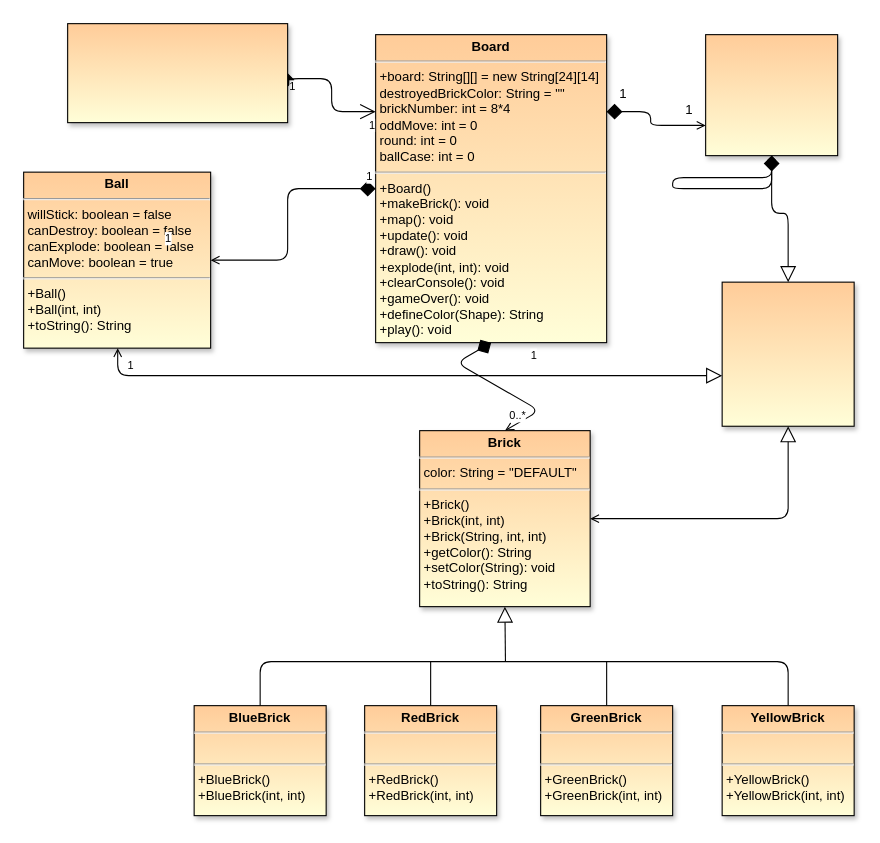
The diagram is 880 pixels wide and 843 high, and some of its shapes have lost their labels. Here are the shapes that lost their labels. From the top down, the centre of each, then its label:
At (x=178, y=74): "Game +grid: char[][] = new char[24][51] +main(String[]): void".
At (x=772, y=96): "Paddle +Paddle() +Paddle(int, int) +toString(): String".
At (x=789, y=355): "Shape x: int y: int Shape() Shape(int, int) toString(): String".
